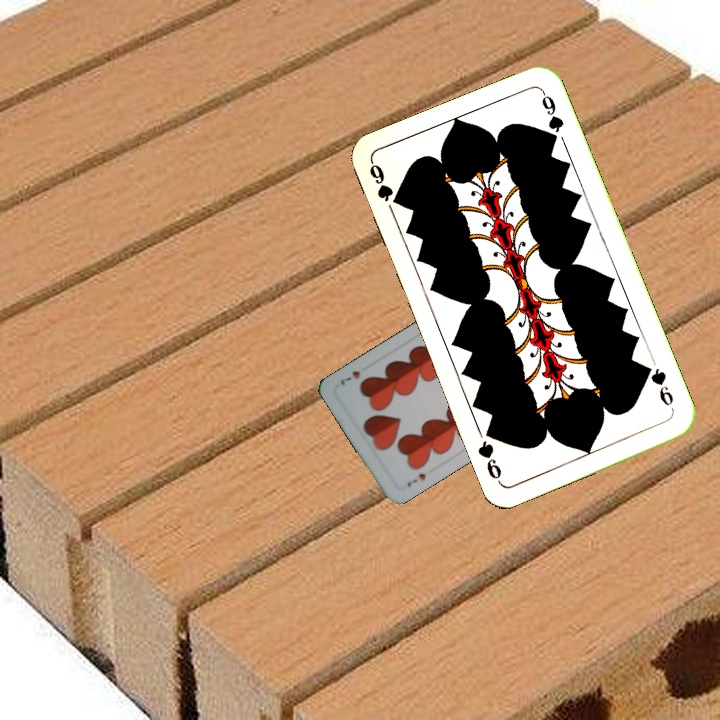G9: (365, 158, 403, 209), (640, 361, 676, 409)
H7: (403, 469, 428, 489)
